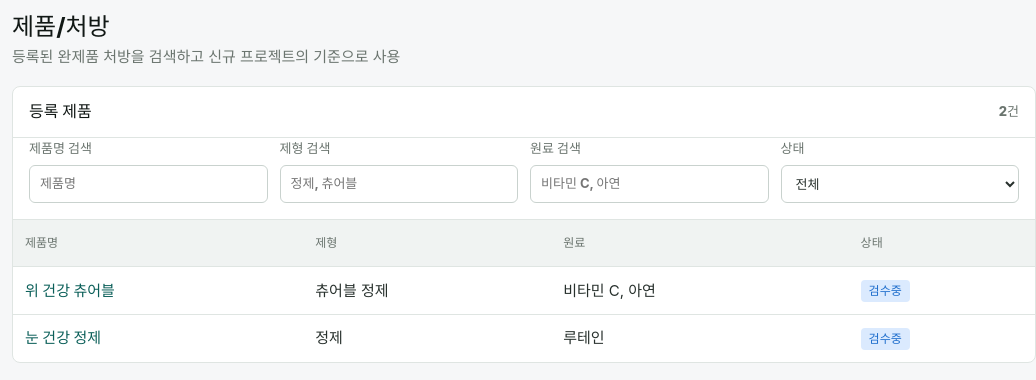
Test: ProductsPage › filters registered products by product name, dosage form, and ingredient
The image size is (1036, 380).
expect the link "위 건강 츄어블" is shown: met, box x1=25 y1=281 x2=115 y2=300
expect the link "눈 건강 정제" is shown: met, box x1=25 y1=328 x2=101 y2=347
Type "위 건강" into the field labelled "제품명 검색".
click(148, 184); type("위 건강")  # box x1=29 y1=165 x2=268 y2=203
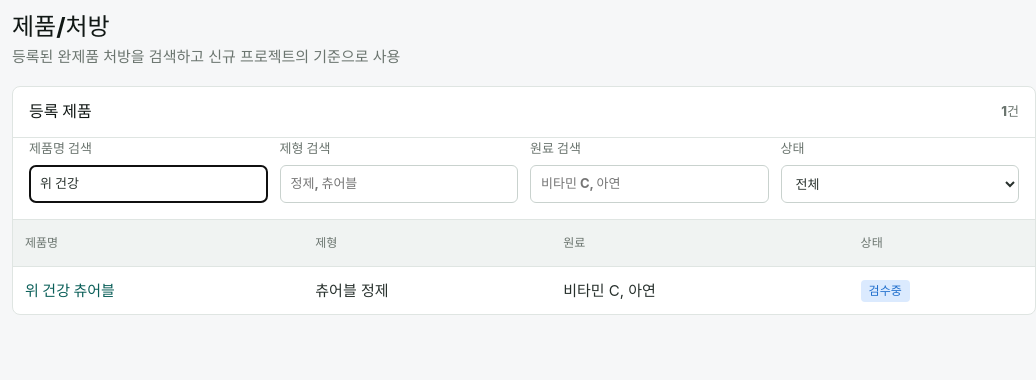
expect the link "위 건강 츄어블" is shown: met, box x1=25 y1=281 x2=115 y2=300
expect the link "눈 건강 정제" is gone: met
Clear the field labelled "제품명 검색" at (148, 184), box x1=29 y1=165 x2=268 y2=203
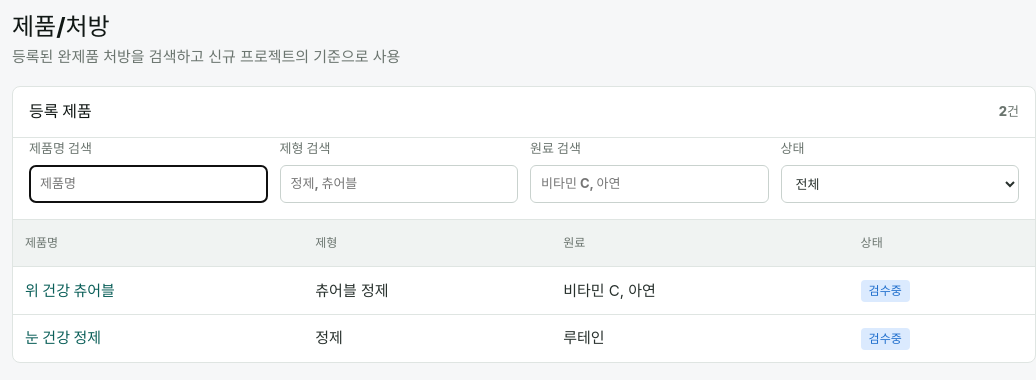
Type "츄어블" into the field labelled "제형 검색".
click(399, 184); type("츄어블")  # box x1=280 y1=165 x2=518 y2=203
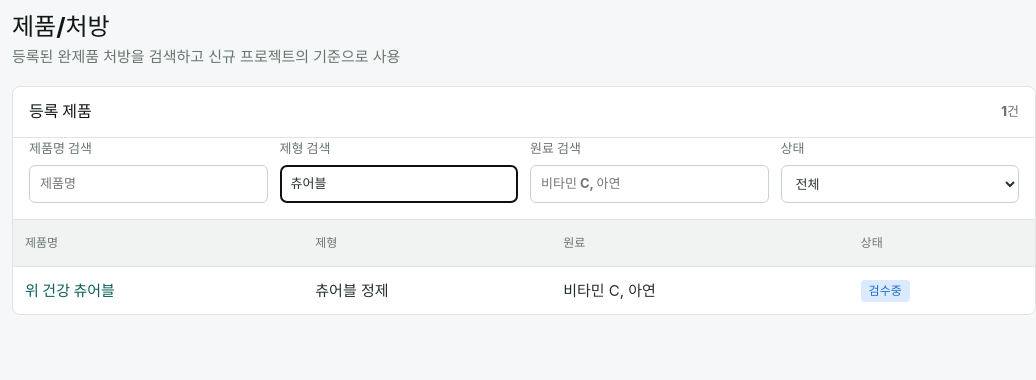
expect the link "위 건강 츄어블" is shown: met, box x1=25 y1=281 x2=115 y2=300
expect the link "눈 건강 정제" is gone: met
Clear the field labelled "제형 검색" at (399, 184), box x1=280 y1=165 x2=518 y2=203
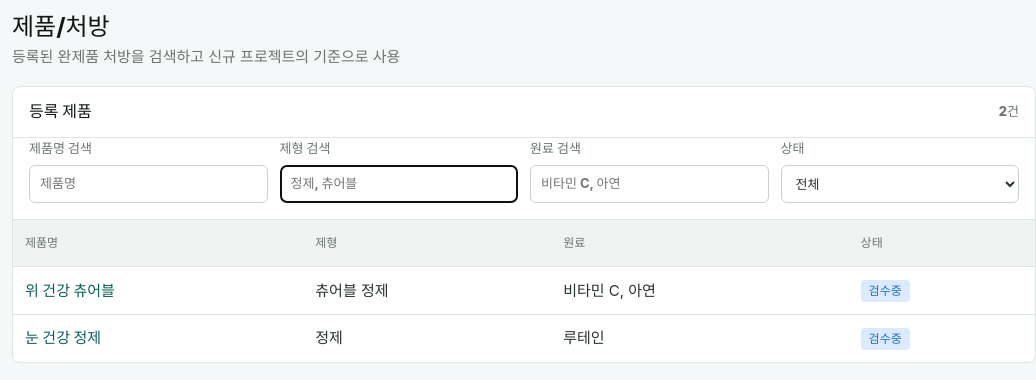
Type "루테인" into the field labelled "원료 검색".
click(649, 184); type("루테인")  # box x1=530 y1=165 x2=768 y2=203
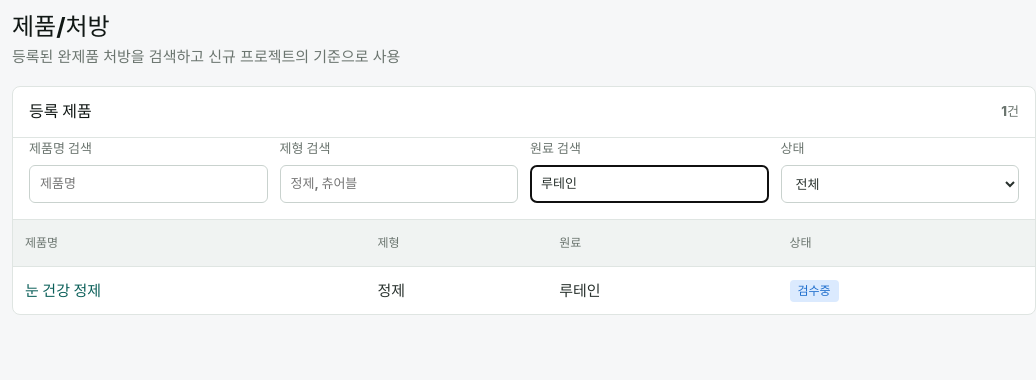
expect the link "눈 건강 정제" is shown: met, box x1=25 y1=281 x2=101 y2=300
expect the link "위 건강 츄어블" is gone: met
